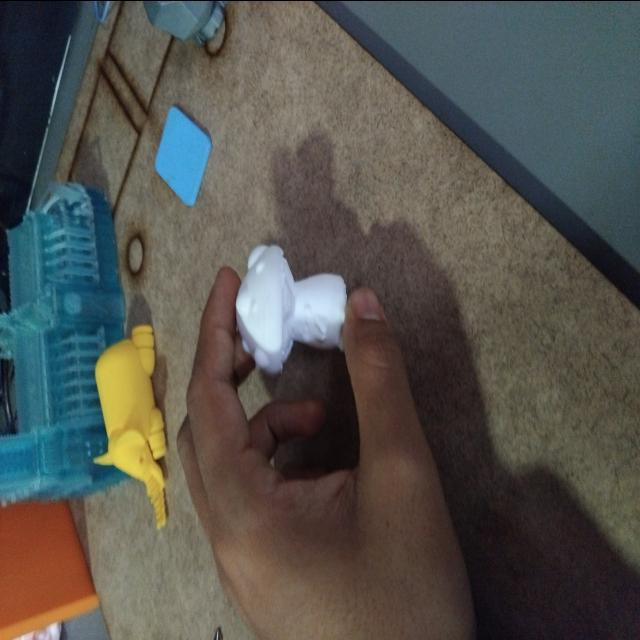Hongo: (225, 233, 357, 388)
